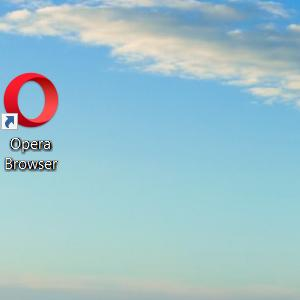opera: (1, 72, 59, 130)
